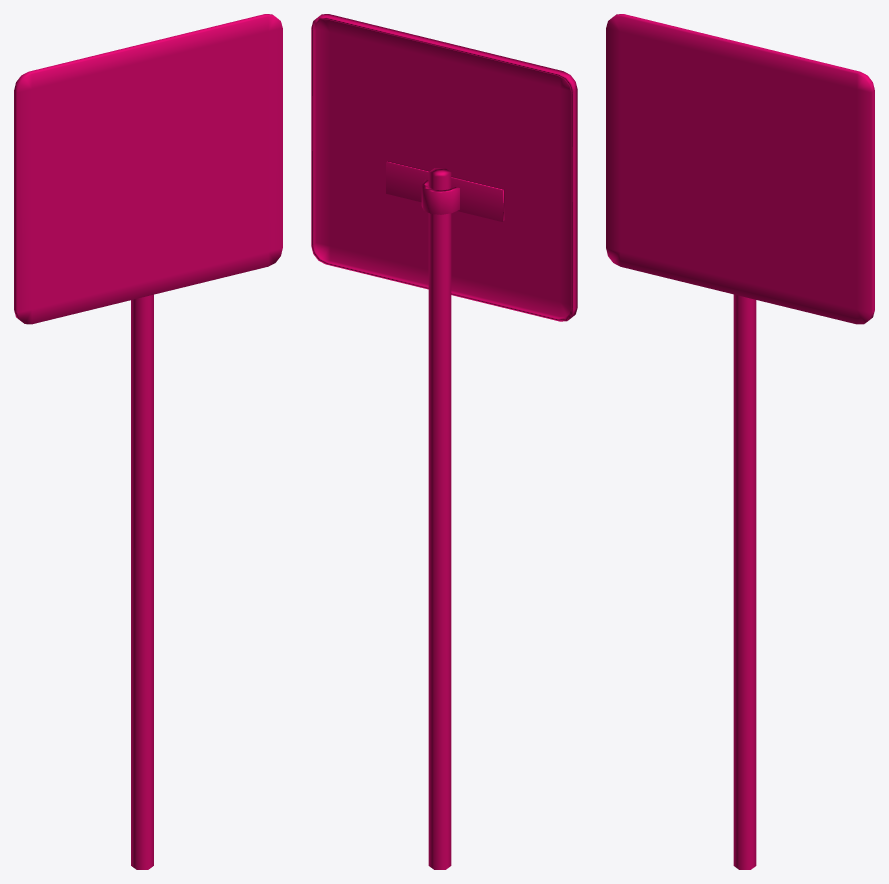
The model's file is Road_Sign_02_Lod0.fbx.
3 renders of one model, left to right at view 1: azimuth 30°, elevation 25°; view 2: azimuth 150°, elevation 25°; view 3: azimuth 330°, elevation 25°, orthographic.
Visible parts, largest first — view 1: Road_Sign_02_Lod0; view 2: Road_Sign_02_Lod0; view 3: Road_Sign_02_Lod0.
Boxes of the visible parts, x1=… form: Road_Sign_02_Lod0: x1=14, y1=14, x2=282, y2=869; Road_Sign_02_Lod0: x1=311, y1=14, x2=577, y2=869; Road_Sign_02_Lod0: x1=606, y1=14, x2=874, y2=869.
Size of the model in its own units: 47.71 by 142 by 5.07.
